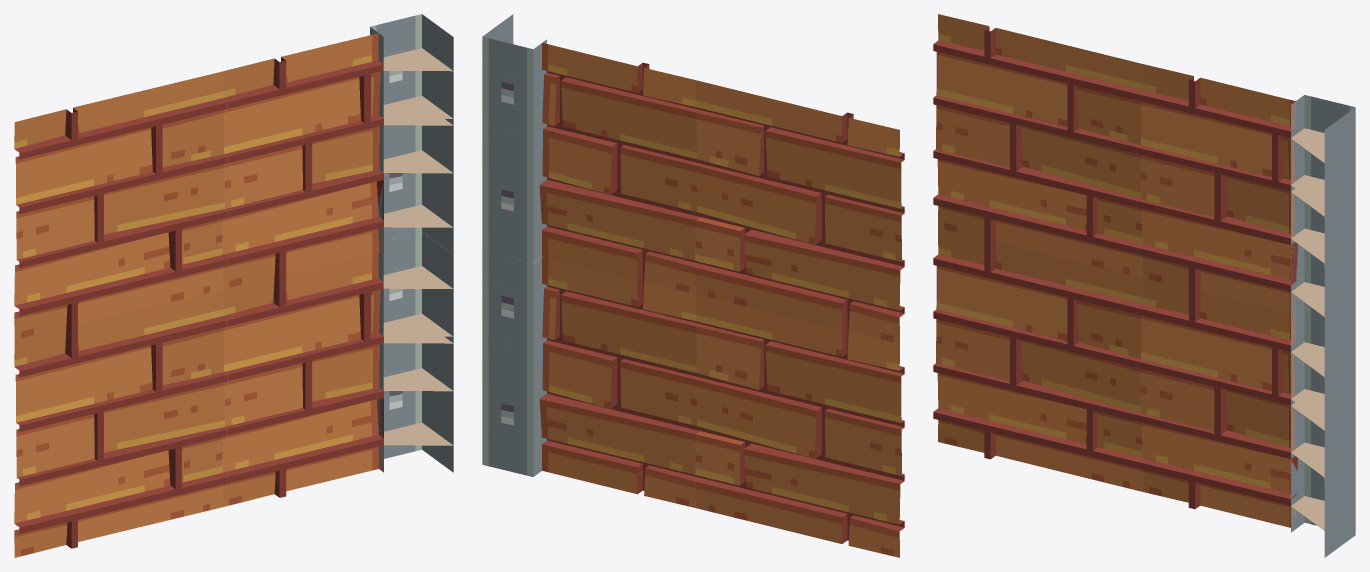
The model's file is LeftKayu.fbx.
3 views of the same model, side by side, from view 1: azimuth 30°, elevation 25°; view 2: azimuth 150°, elevation 25°; view 3: azimuth 330°, elevation 25° (orthographic).
Visible parts, largest first — view 1: LeftKayu; view 2: LeftKayu; view 3: LeftKayu.
Boxes of the visible parts, <box> form: LeftKayu: <box>14,14,453,557</box>; LeftKayu: <box>482,14,904,557</box>; LeftKayu: <box>933,14,1355,557</box>.
Bounding box in the file's own units: 12.48 × 94.81 × 94.81.
